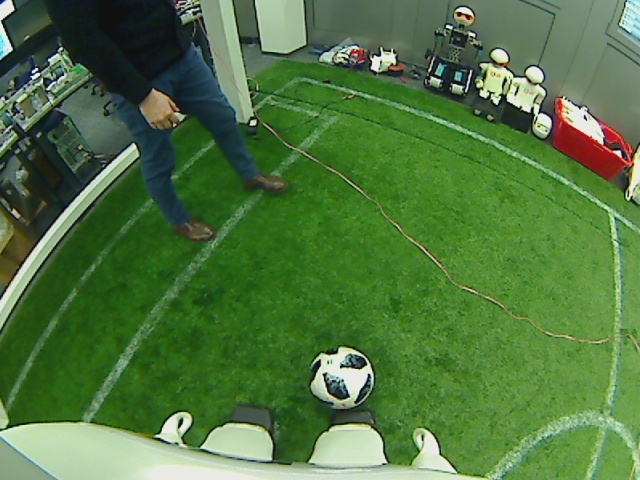ball: (307, 343, 374, 410)
